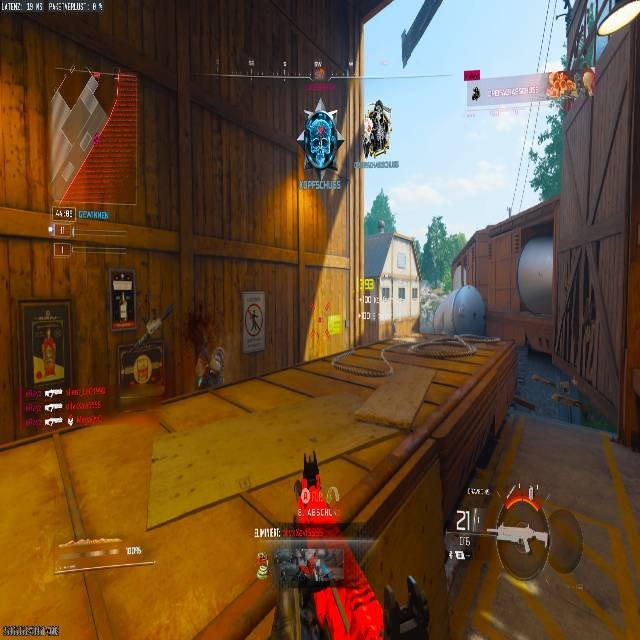player: (299, 102, 338, 177), (364, 99, 391, 155)
